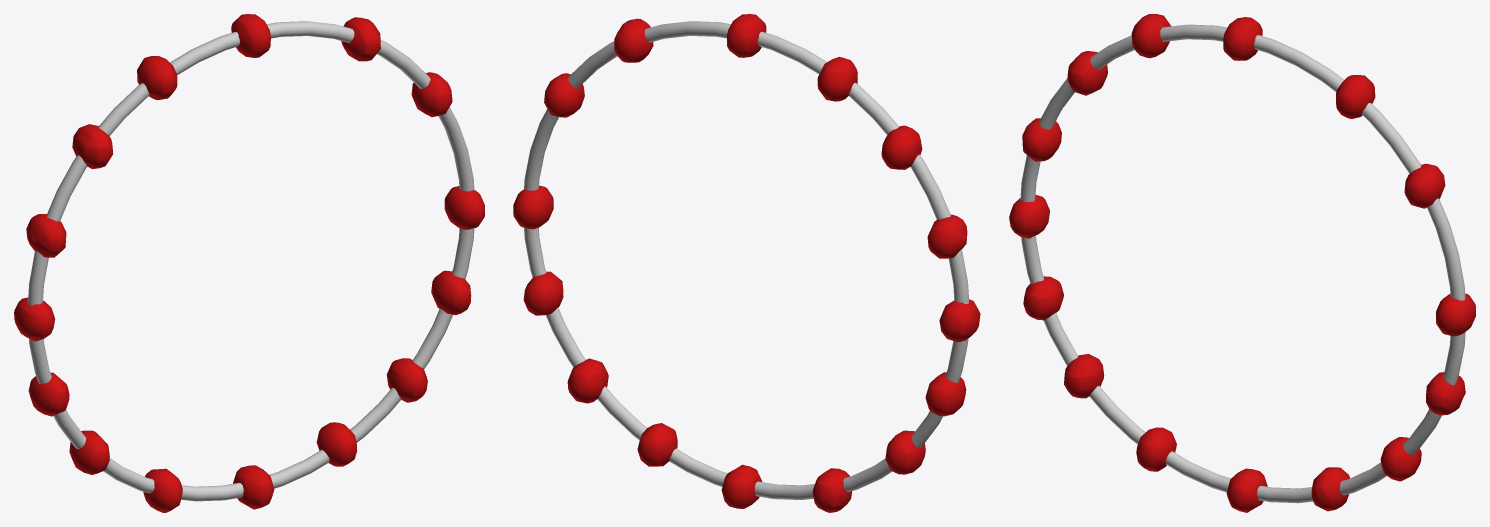
3 renders of one model, left to right at view 1: azimuth 30°, elevation 25°; view 2: azimuth 150°, elevation 25°; view 3: azimuth 330°, elevation 25°, orthographic.
Visible parts, largest first — view 1: Electron_Mball, Ring_Torus; view 2: Electron_Mball, Ring_Torus; view 3: Electron_Mball, Ring_Torus.
Boxes of the visible parts, x1,y1,x2,y2 form: Electron_Mball: [14, 14, 484, 512]; Ring_Torus: [28, 21, 474, 501]; Electron_Mball: [513, 14, 980, 512]; Ring_Torus: [524, 21, 969, 499]; Electron_Mball: [1009, 14, 1475, 512]; Ring_Torus: [1020, 24, 1465, 503].
Bounding box in the file's own units: 2.55 × 2.6 × 0.2587.
